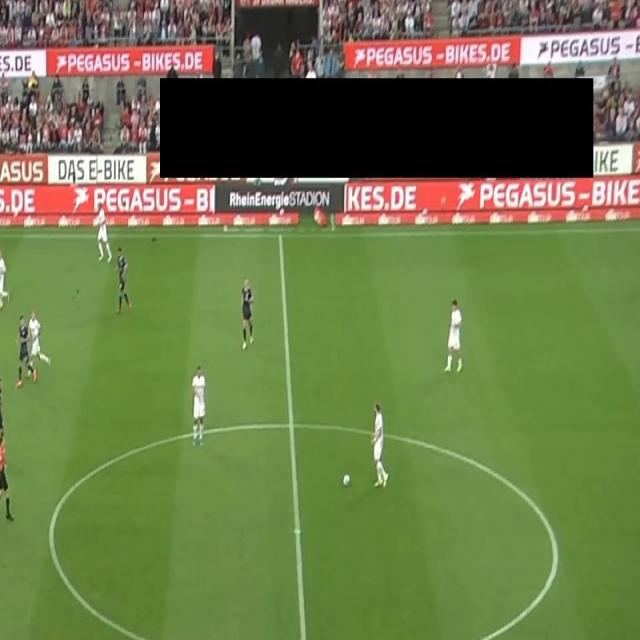ball: (342, 473, 351, 488)
